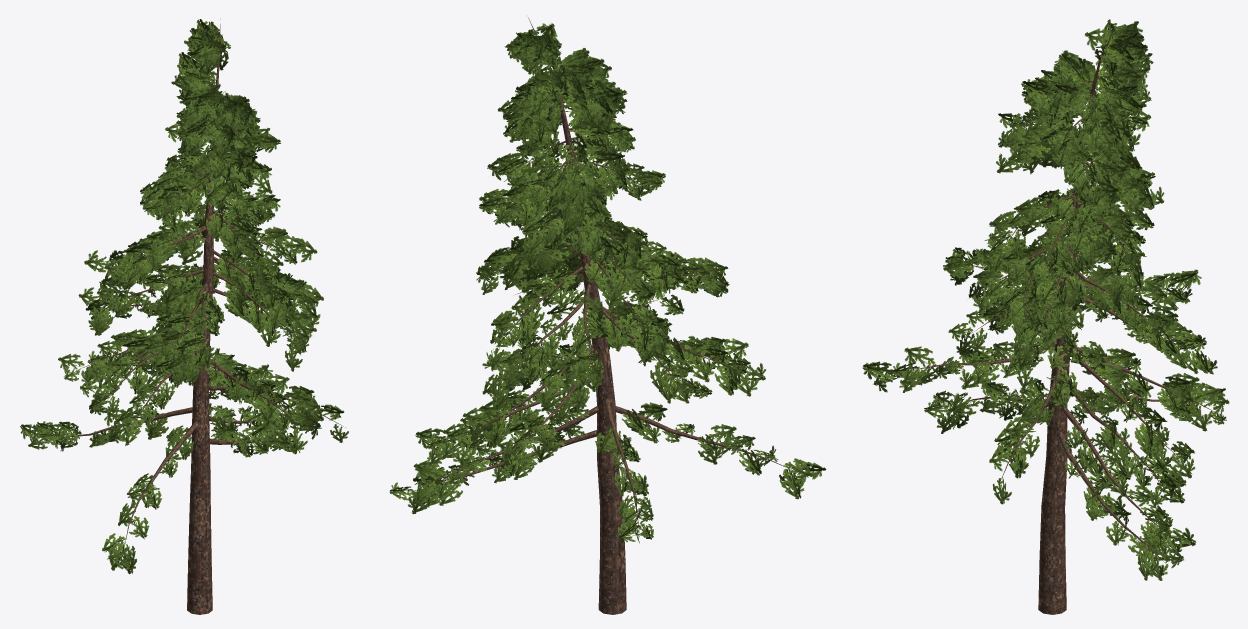
The model's file is pine-01.glb.
3 views of the same model, side by side, from view 1: azimuth 30°, elevation 25°; view 2: azimuth 150°, elevation 25°; view 3: azimuth 270°, elevation 25° (orthographic). The views are drawn at different scales.
Visible parts, largest first — view 1: Overgrowth_Pine_1; view 2: Overgrowth_Pine_1; view 3: Overgrowth_Pine_1.
Part boxes in pixels (x1,y1,x2,y2): Overgrowth_Pine_1: (20, 19, 348, 614); Overgrowth_Pine_1: (389, 17, 826, 614); Overgrowth_Pine_1: (862, 19, 1229, 614).
Size of the model in its own units: 7.92 by 14 by 7.8.
Materials: 2 (2 with a texture image).
